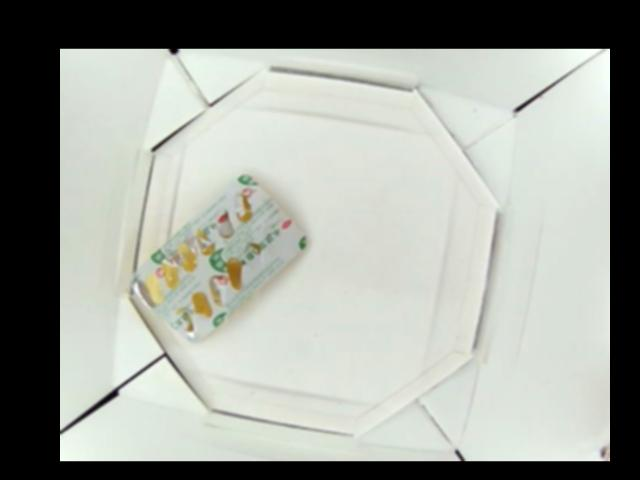Medicine: (127, 171, 309, 339)
